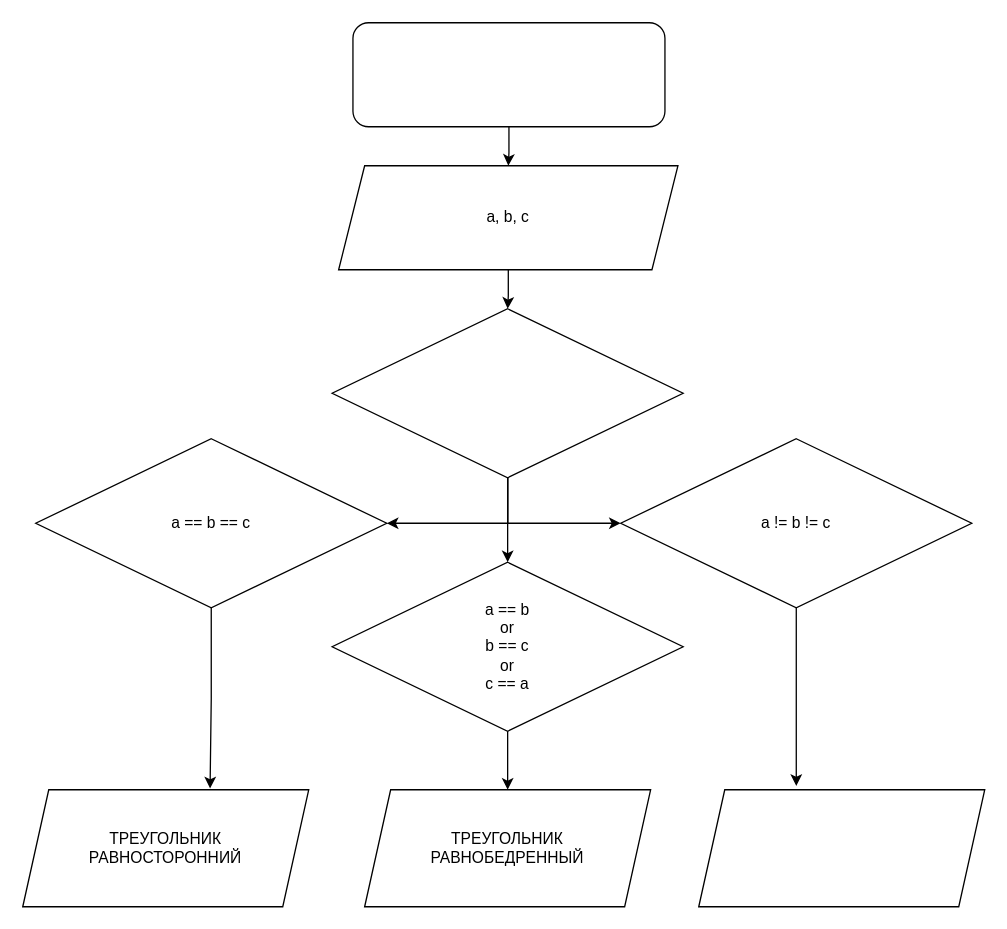
Image size: 1007x929. Some labels were removed from this diagram. The box of each missing label's shape, as (x1, y1, x2, y2) in pixels:
(a + b) > c (b + c) > a (c + a) > b: (331, 307, 683, 478)
НАЧАЛО: (352, 21, 665, 127)
ТРЕУГОЛЬНИК РАЗНОСТОРОННИЙ: (697, 788, 985, 907)
